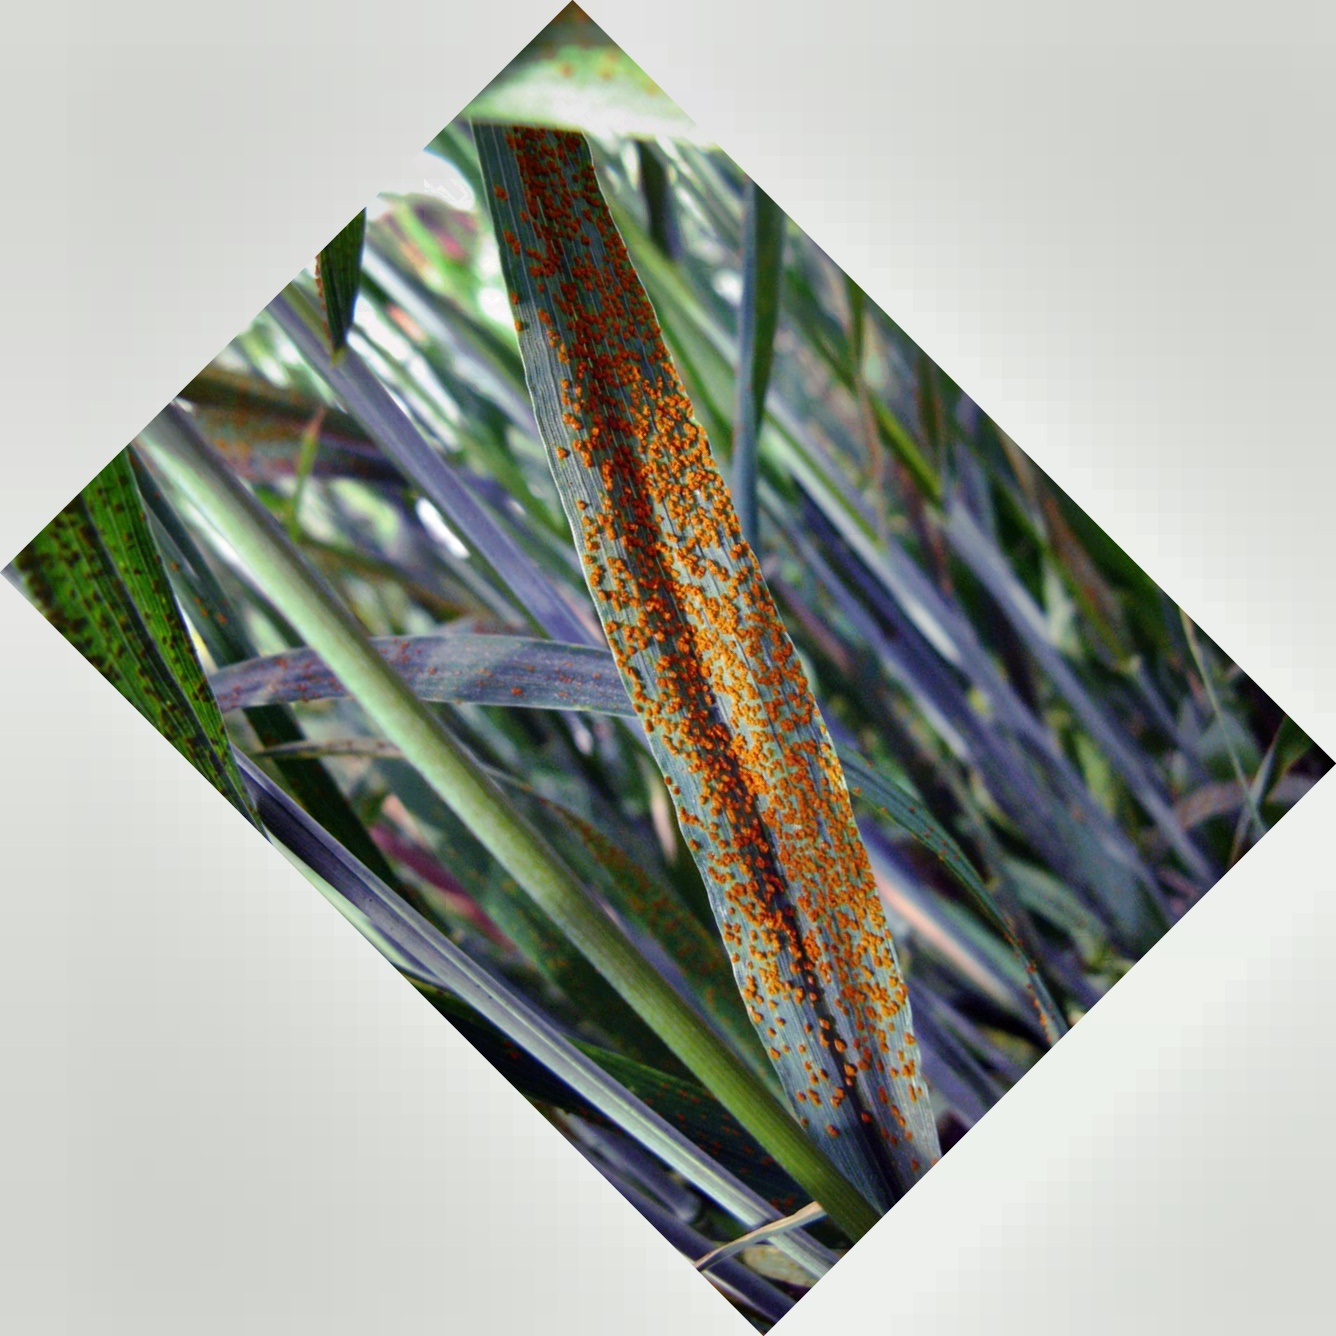Leaf Rust: (524, 347, 937, 1060)
